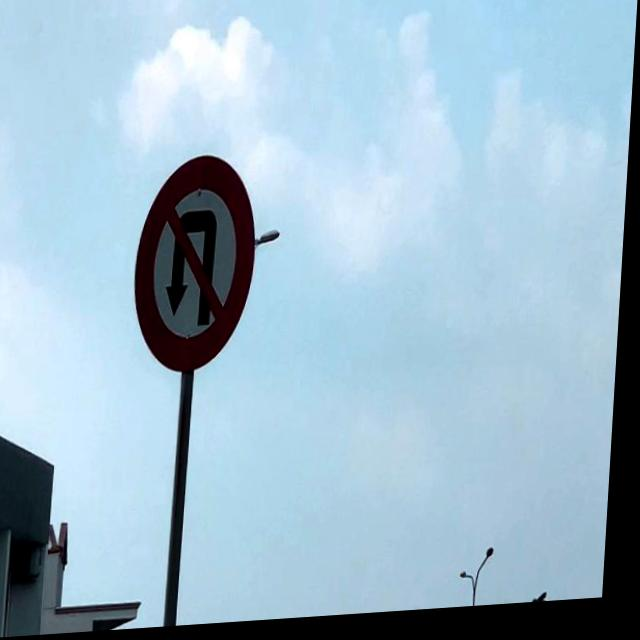Cam quay dau xe: (131, 147, 264, 383)
